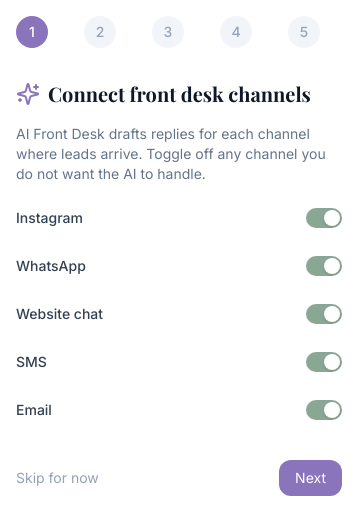
Test: AISetupWizard › navigates back when Back is clicked
Click the button with test id "next-button" at (311, 478), box [279,460,342,496]
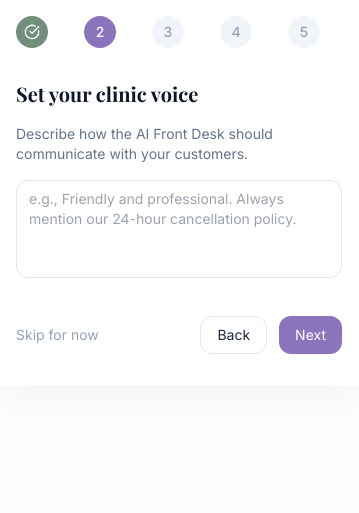
Expected: the heading "Set your clinic voice" is shown, [16,80,198,107]
Click the button with test id "back-button" at (234, 335), box [200,316,267,354]
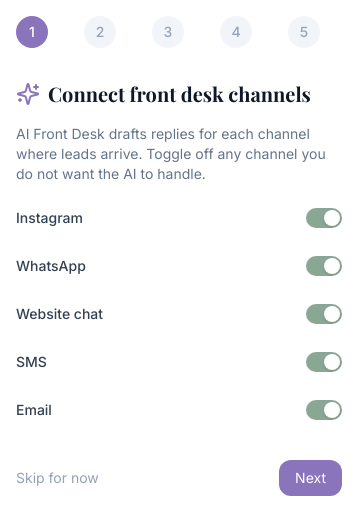
Expected: the heading "Connect front desk channels" is shown, [48,80,311,108]
